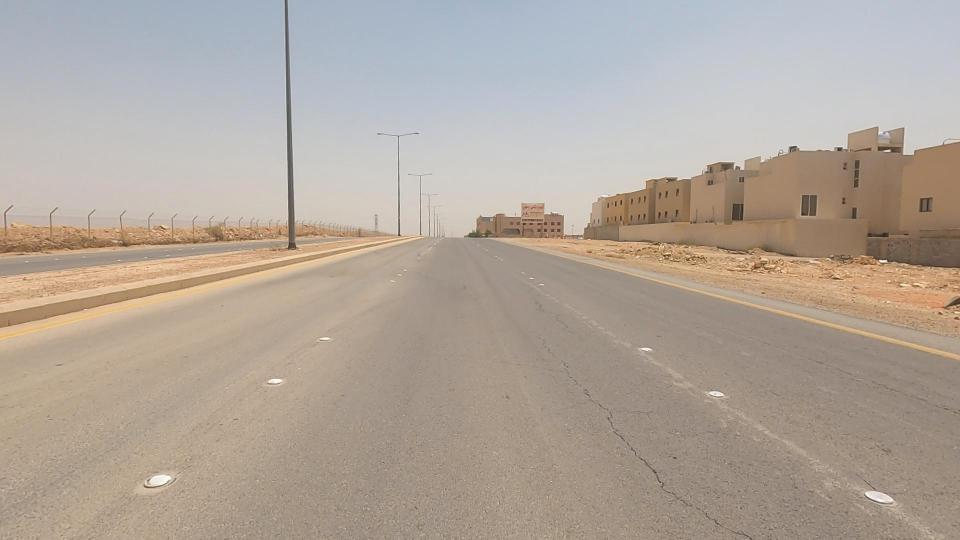GARBAGE: (858, 248, 915, 276)
